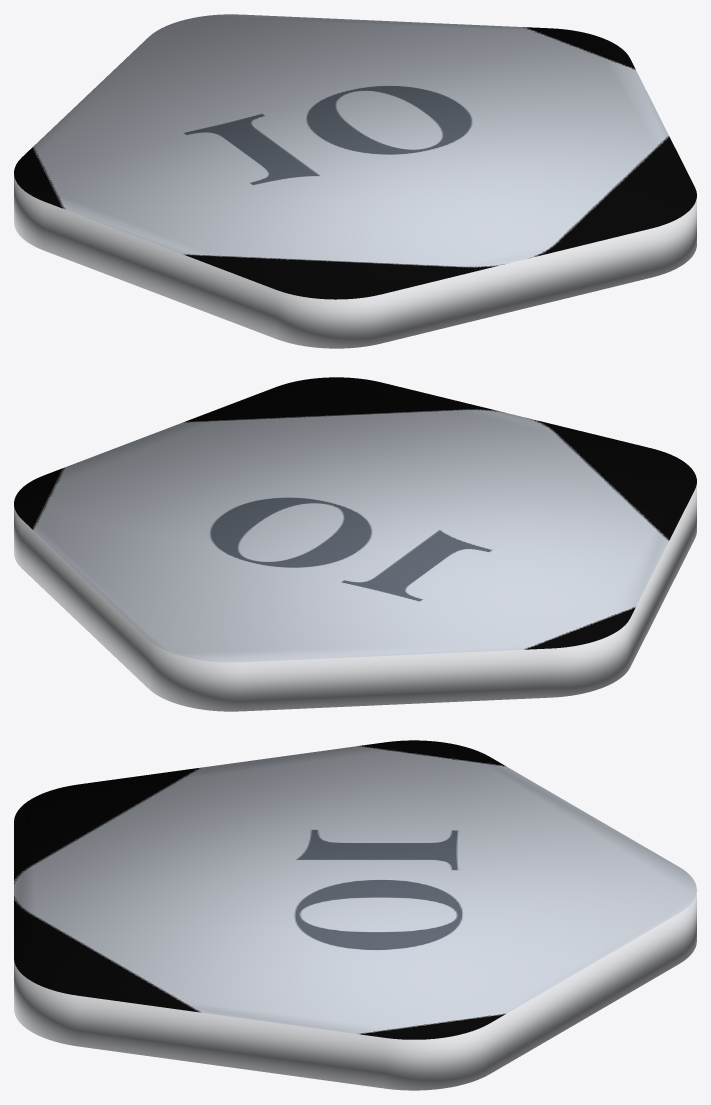
Rendered from pen_10.glb.
3 renders of one model, top to bottom at view 1: azimuth 30°, elevation 25°; view 2: azimuth 150°, elevation 25°; view 3: azimuth 270°, elevation 25°, orthographic. The views are drawn at different scales.
Parts seen in each view (by area): view 1: pen_10; view 2: pen_10; view 3: pen_10.
Boxes of the visible parts, bbox=[...] form: pen_10: bbox=[14, 14, 696, 348]; pen_10: bbox=[14, 377, 696, 711]; pen_10: bbox=[14, 740, 696, 1090].
Size of the model in its own units: 0.0304 by 0.0024 by 0.0293.
2 materials, 1 textured.
